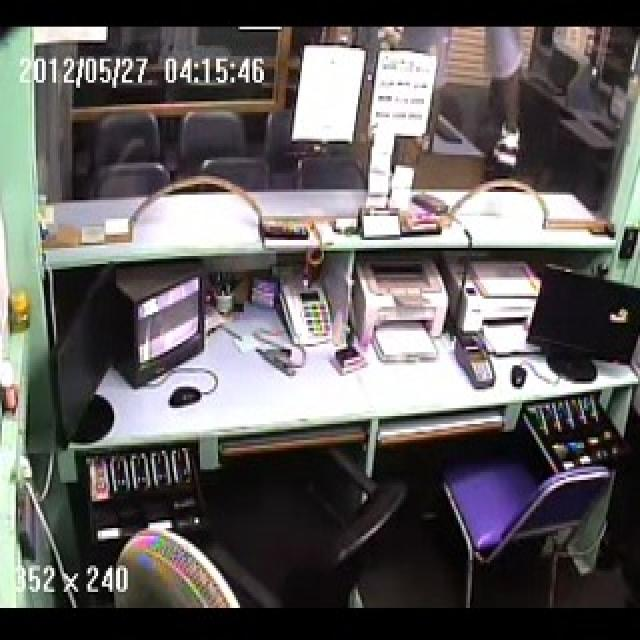thief: (461, 27, 539, 184)
